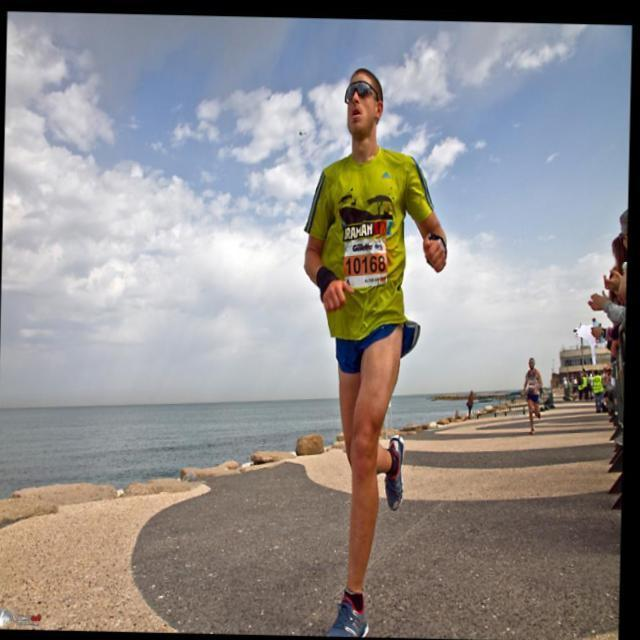dorsal: (336, 227, 397, 296)
